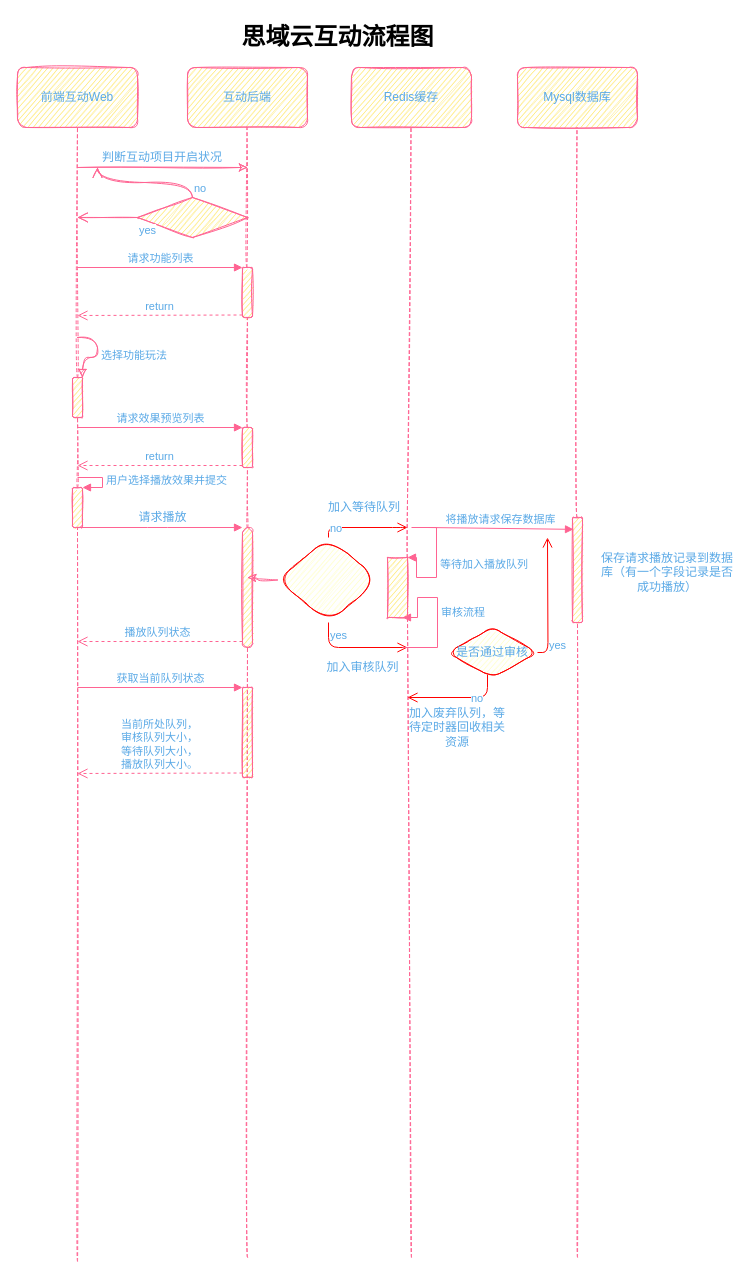
This 755x1279 diagram has some shape labels left out. Here are the shapes that lost their labels. From the top down, the centre of each, then its label:
At (x=192, y=217): "互动是否开启".
At (x=328, y=579): "该功能是否需要审核".
